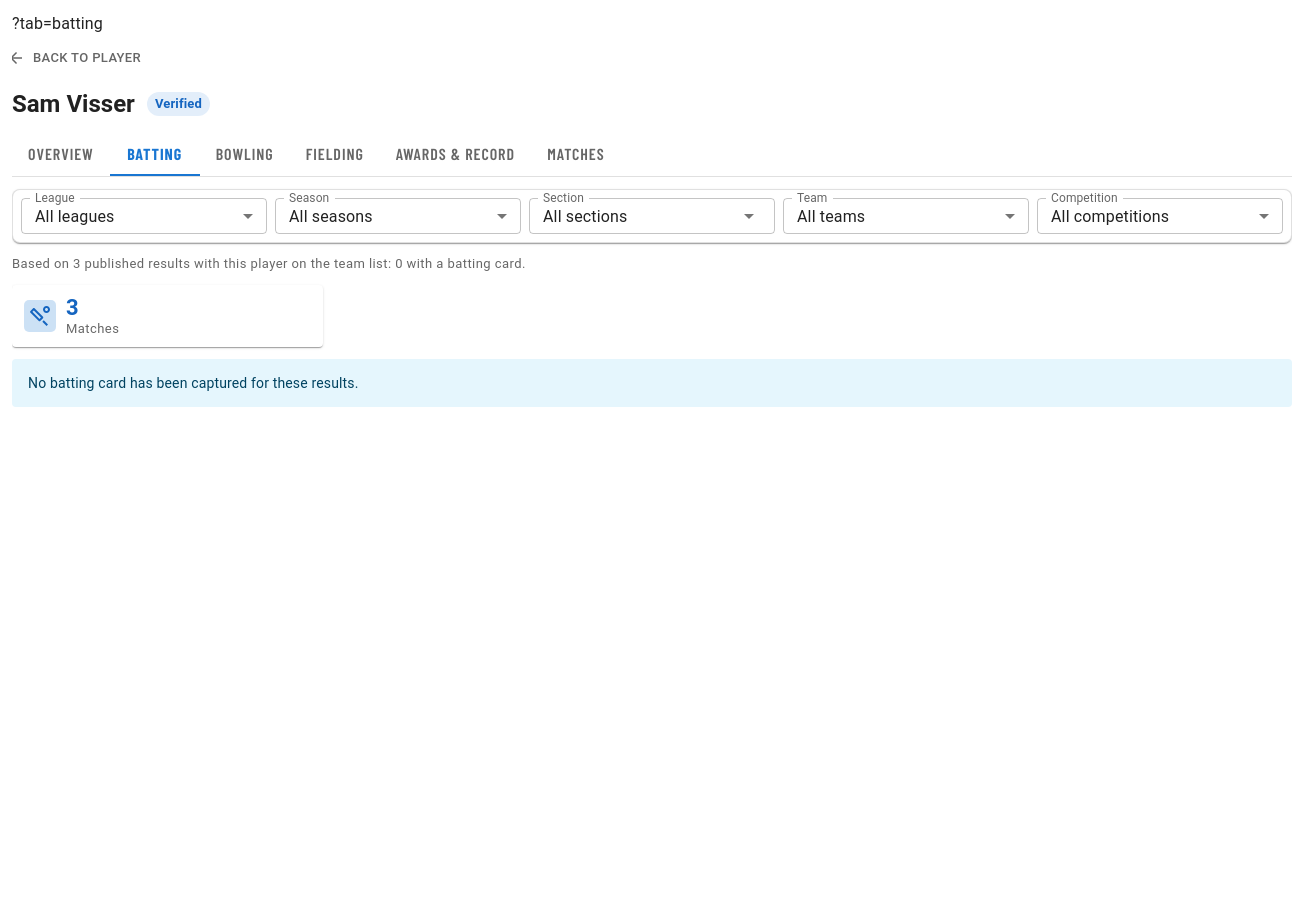
Scenario: PlayerStatsPage › empty, loading and error states › with appearances but no batting card shows Matches and a plain note, not zeros
Expected: the text "No batting card has been captured for these results." is shown, 28,375 -> 358,391
Expected: the text with test id "tile-matches-value" reads "3", 66,295 -> 79,320
Step 1. Click the tab "Bowling" → (245,154), box 216,144 -> 274,163
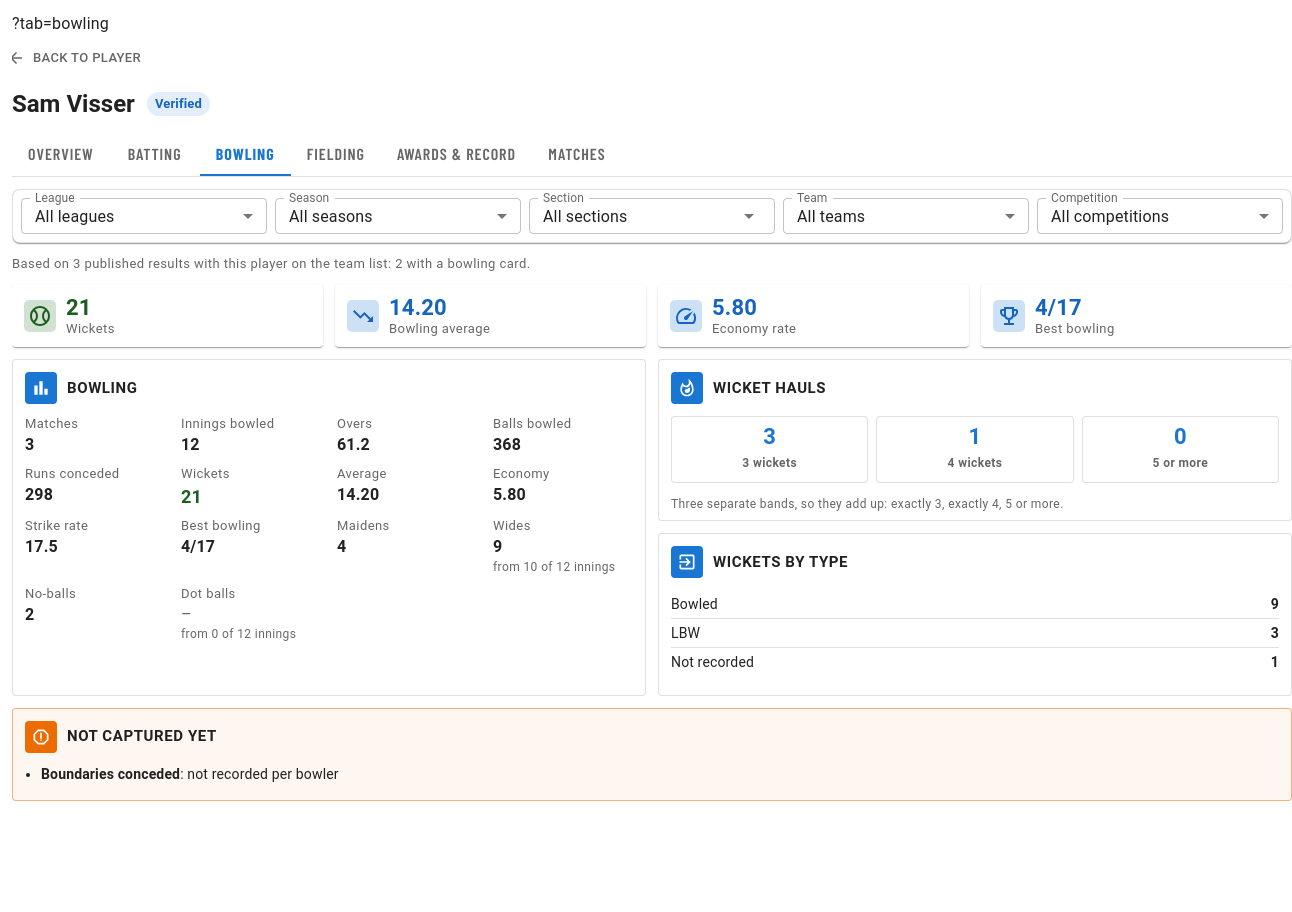
Now the element with test id "tile-wickets" is shown, box 12,285 -> 323,347
